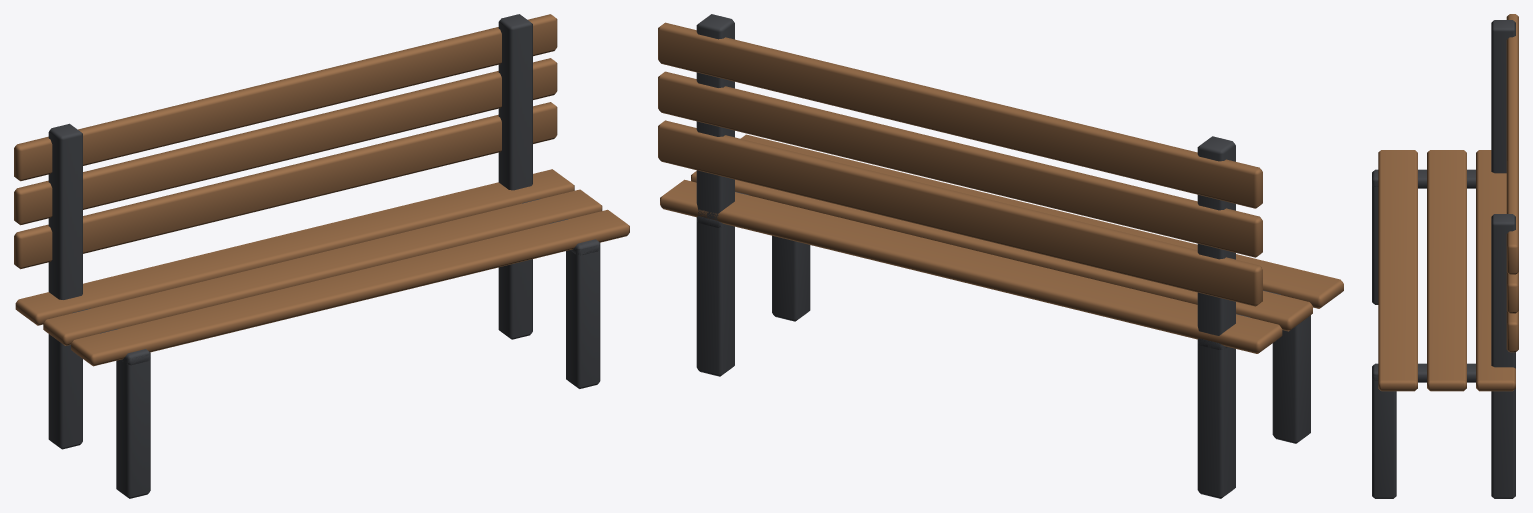
File: BenchFL.fbx
The picture shows the model from 3 angles, left to right: view 1: azimuth 30°, elevation 25°; view 2: azimuth 150°, elevation 25°; view 3: azimuth 270°, elevation 25°; orthographic projection. The views are drawn at different scales.
Parts seen in each view (by area): view 1: BenchFL; view 2: BenchFL; view 3: BenchFL.
Part boxes in pixels (x1,y1,x2,y2): BenchFL: [14, 14, 629, 498]; BenchFL: [658, 14, 1343, 498]; BenchFL: [1372, 14, 1518, 498].
Bounding box in the file's own units: 1.8 × 1 × 0.48.
